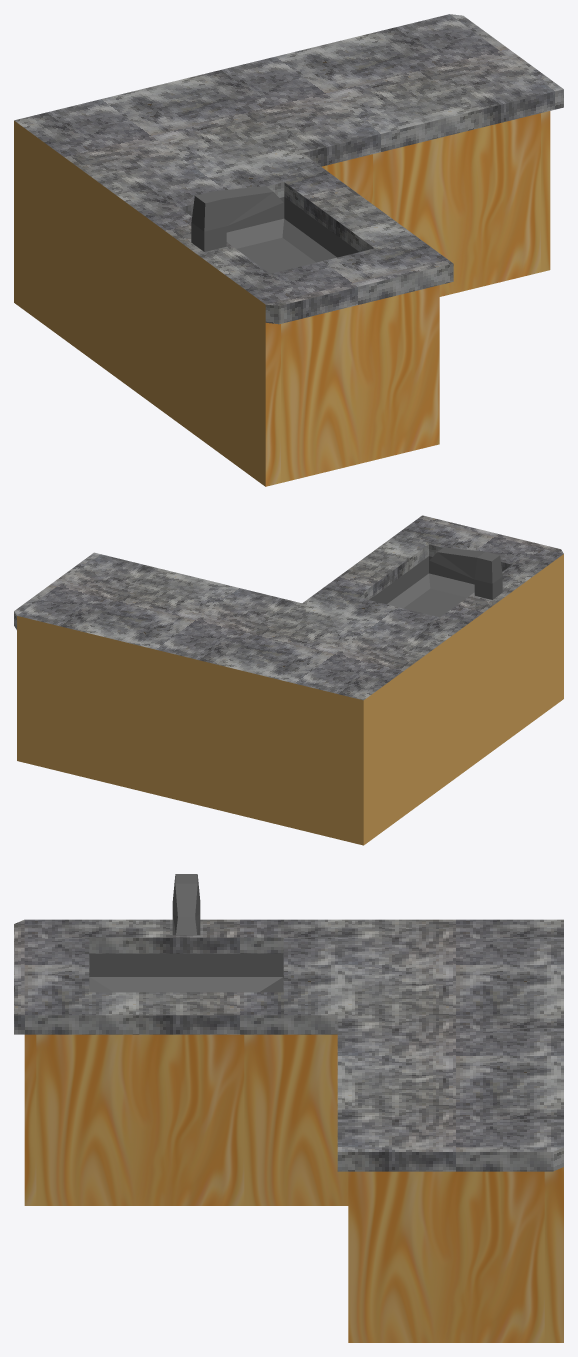
File: Bench.obj
The picture shows the model from 3 angles, top to bottom: view 1: azimuth 30°, elevation 25°; view 2: azimuth 150°, elevation 25°; view 3: azimuth 270°, elevation 25°; orthographic projection. The views are drawn at different scales.
Visible parts, largest first — view 1: Bench_Cube.001; view 2: Bench_Cube.001; view 3: Bench_Cube.001.
Part boxes in pixels (box(x1,y1,x2,y2)): Bench_Cube.001: box(14, 14, 563, 486); Bench_Cube.001: box(14, 515, 563, 845); Bench_Cube.001: box(14, 874, 563, 1342).
Bounding box in the file's own units: 3.57 × 1.76 × 3.57.
